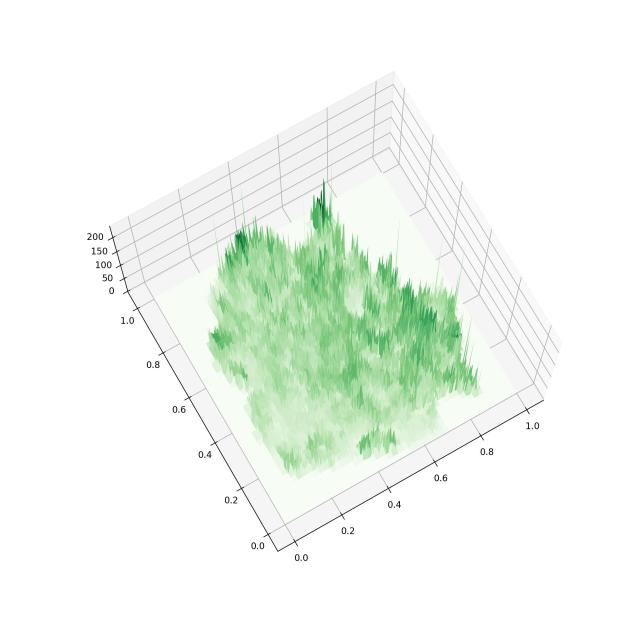pine: (75, 28, 585, 606)
